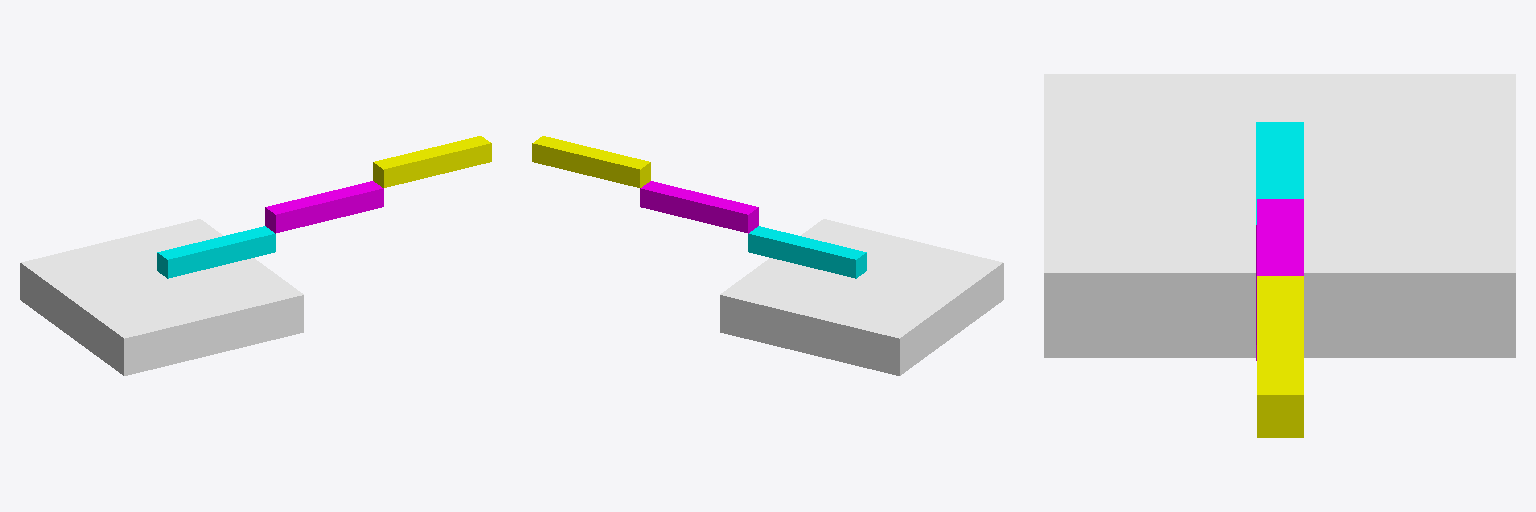
robot.urdf — robot:
<robot name="robot">
  <!--Descripción de los eslabones-->
  <link name="base_link">
    <visual>
      <geometry>
        <box size="0.5 0.5 0.1"/>
      </geometry>
      <origin xyz="0 0 -0.05"/>
      <material name="black">
        <color rgba="1 1 1 1"/>
      </material>
    </visual>
    <collision>
      <geometry>
        <box size="0.5 0.5 0.1"/>
      </geometry>
      <origin xyz="0 0 -0.05"/>
    </collision>
    <inertial>
      <mass value="0.1"/>
      <inertia ixx="1e-3" iyy="1e-3" izz="1e-3"
              ixy="0" ixz="0" iyz="0"/>
    </inertial>
  </link>

  <link name="shoulder_link">
    <visual>
      <geometry>
        <box size="0.3 0.05 0.05"/>
      </geometry>
      <origin xyz="0.15 0.025 0"/>
      <material name="cyan">
        <color rgba="0 1 1 1"/>
      </material>
    </visual>
    <collision>
      <geometry>
        <box size="0.3 0.05 0.05"/>
      </geometry>
      <origin xyz="0.15 0.025 0"/>
    </collision>
    <inertial>
      <mass value="0.1"/>
      <inertia ixx="1e-3" iyy="1e-3" izz="1e-3"
              ixy="0" ixz="0" iyz="0"/>
    </inertial>
  </link>
  <link name="arm_link">
    <visual>
      <geometry>
        <box size="0.3 0.05 0.05"/>
      </geometry>
      <origin xyz="0.15 0.025 0"/>
      <material name="magenta">
        <color rgba="1 0 1 1"/>
      </material>
    </visual>

    <collision>
      <geometry>
        <box size="0.3 0.05 0.05"/>
      </geometry>
      <origin xyz="0.15 0.025 0"/>
    </collision>
    <inertial>
      <mass value="0.1"/>
      <inertia ixx="1e-3" iyy="1e-3" izz="1e-3"
              ixy="0" ixz="0" iyz="0"/>
    </inertial>
  </link>
  <link name="forearm_link">
    <visual>
      <geometry>
        <box size="0.3 0.05 0.05"/>
      </geometry>
      <origin xyz="0.15 0.025 0"/>
      <material name="yellow">
        <color rgba="1 1 0 1"/>
      </material>
    </visual>

    <collision>
      <geometry>
        <box size="0.3 0.05 0.05"/>
      </geometry>
      <origin xyz="0.15 0.025 0"/>
    </collision>
    <inertial>
      <mass value="0.1"/>
      <inertia ixx="1e-3" iyy="1e-3" izz="1e-3"
              ixy="0" ixz="0" iyz="0"/>
    </inertial>
  </link>

  <!--Descripción de las juntas-->
  <joint name="shoulder_joint" type="revolute"> <!--tipo de junta: revolute, prismatic, fixed-->
    <parent link="base_link"/>
    <child link="shoulder_link"/>
    <axis xyz="0 0 1"/>
    <limit lower="-3.14" upper ="3.14" effort="10.0" velocity="10.0"/>
    <origin rpy="1.57 0 0" xyz="0 0 0.01"/> <!--roll, pitch, yaw-->
  </joint>
  <joint name="arm_joint" type="revolute"> <!--tipo de junta: revolute, prismatic, fixed-->
    <parent link="shoulder_link"/>
    <child link="arm_link"/>
    <axis xyz="0 0 1"/>
    <limit lower="-3.14" upper ="3.14" effort="10.0" velocity="10.0"/>
    <origin xyz="0.3 0.05 0" rpy="0 0 0"/>
  </joint>
  <joint name="forearm_joint" type="revolute"> <!--tipo de junta: revolute, prismatic, fixed-->
    <parent link="arm_link"/>
    <child link="forearm_link"/>
    <axis xyz="0 0 1"/>
    <limit lower="-3.14" upper ="3.14" effort="10.0" velocity="10.0"/>
    <origin xyz="0.3 0.05 0"/>
  </joint>
</robot>

--- Render facts (derived) ---
Views: 3 orthographic renders of the robot side by side, from view 1: azimuth 30°, elevation 25°; view 2: azimuth 150°, elevation 25°; view 3: azimuth 270°, elevation 25°.
Model robot with 4 links and 3 joints (3 revolute), rooted at base_link, posed all joints at 0.
Links seen in each view (by area): view 1: base_link, forearm_link, shoulder_link, arm_link; view 2: base_link, forearm_link, arm_link, shoulder_link; view 3: base_link, forearm_link, arm_link, shoulder_link.
Boxes of the visible links, x1,y1,x2,y2 form: base_link: (20,219,303,375); forearm_link: (373,136,491,187); shoulder_link: (157,226,275,278); arm_link: (265,181,383,233); base_link: (720,219,1003,375); forearm_link: (532,136,650,187); arm_link: (640,181,758,233); shoulder_link: (748,226,866,278); base_link: (1044,74,1515,357); forearm_link: (1257,276,1303,437); arm_link: (1256,199,1303,360); shoulder_link: (1256,122,1303,224).
Size in the robot's own frame: 1.15 by 0.5 by 0.26 metres.
Geometry: primitives only (box / cylinder / sphere), no mesh files.
